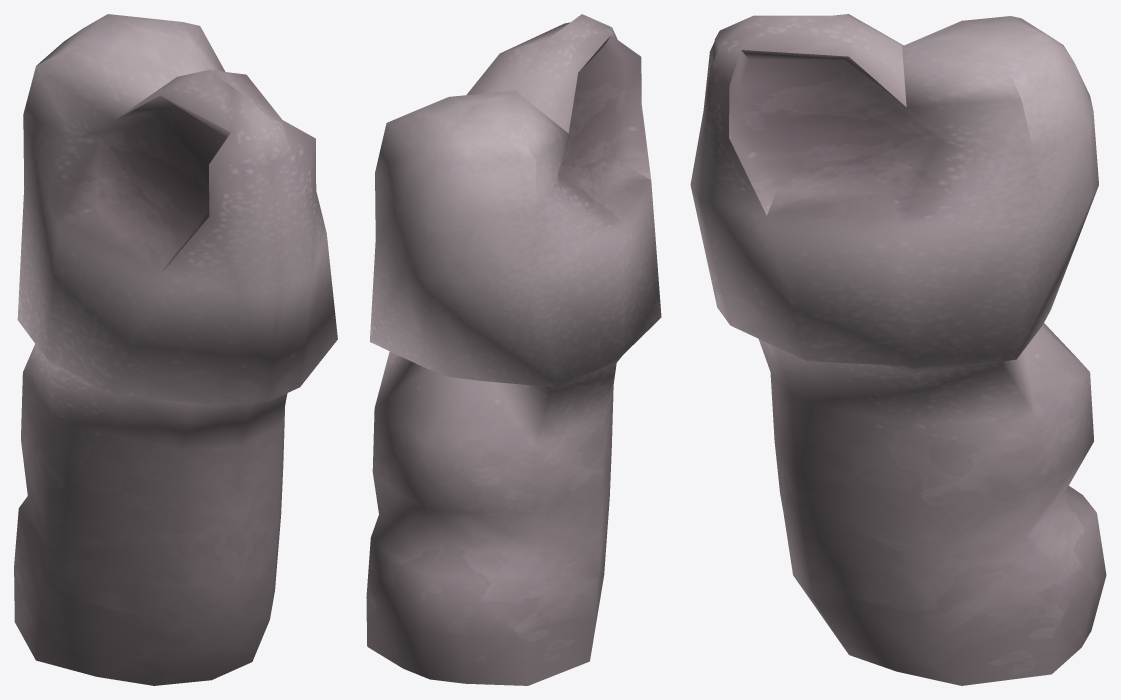
File: ronck_2.fbx
3 renders of one model, left to right at view 1: azimuth 30°, elevation 25°; view 2: azimuth 150°, elevation 25°; view 3: azimuth 270°, elevation 25°, orthographic. The views are drawn at different scales.
Visible parts, largest first — view 1: Plane; view 2: Plane; view 3: Plane.
Part boxes in pixels (x1,y1,x2,y2): Plane: (14,14,337,685); Plane: (366,14,661,685); Plane: (690,14,1106,685).
Size of the model in its own units: 60.76 by 142 by 87.
